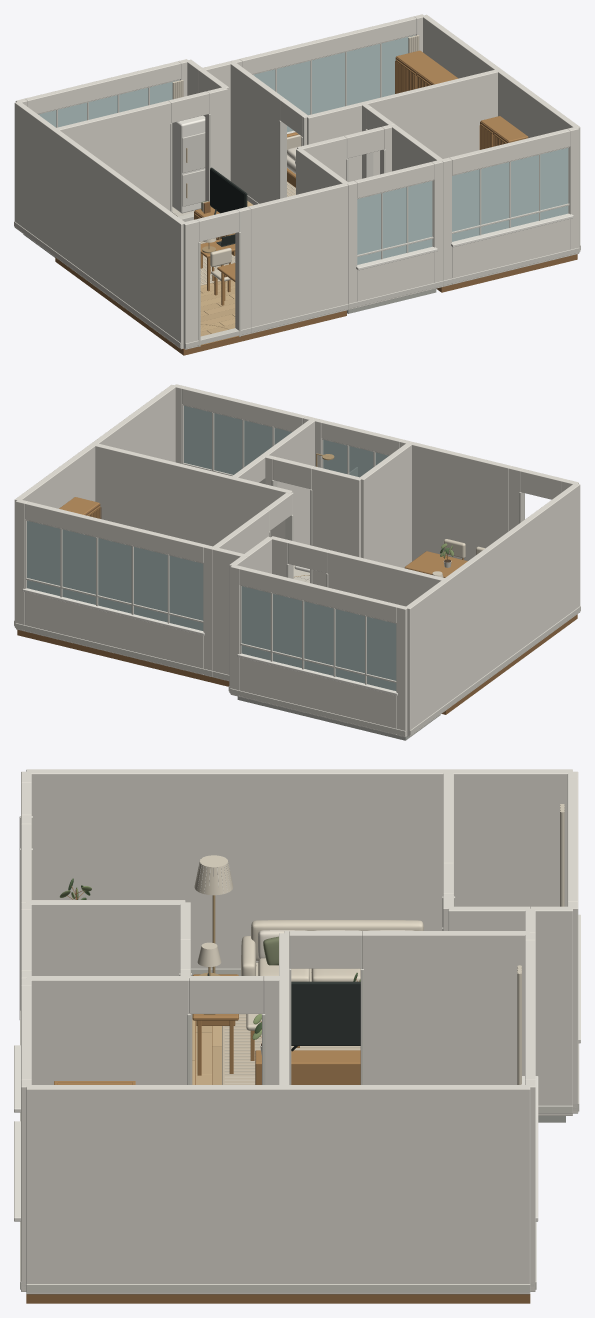
The model's file is new-home-c.glb.
3 renders of one model, top to bottom at view 1: azimuth 30°, elevation 25°; view 2: azimuth 150°, elevation 25°; view 3: azimuth 270°, elevation 25°, orthographic. The views are drawn at different scales.
Parts seen in each view (by area): view 1: Plaster wall (×28), Pale glazing (×4), Skirting board (×5), Floor underlay (×2), Door jamb (×3), Refrigerator door (×2), Carcass (×2), Refrigerator, Stone window sill (×2), Television screen, Oak door panel; view 2: Plaster wall (×29), Pale glazing (×4), Skirting board (×3), Floor underlay (×2), Stone window sill (×2), Solid oak tabletop, Window rail; view 3: Plaster wall (×20), Floor underlay (×2), Television frame, Skirting board, Carcass, Bound wool rug, Soft back, Pleated shade, Stone window sill, Seat cushion.001.
Part boxes in pixels (<box>): Plaster wall (×28): <box>14,14,580,349</box>; Pale glazing (×4): <box>38,35,568,264</box>; Skirting board (×5): <box>14,221,579,348</box>; Floor underlay (×2): <box>135,254,577,355</box>; Door jamb (×3): <box>205,114,286,336</box>; Refrigerator door (×2): <box>182,132,205,206</box>; Carcass (×2): <box>396,50,528,142</box>; Refrigerator: <box>172,115,205,213</box>; Stone window sill (×2): <box>356,213,573,270</box>; Television screen: <box>210,169,244,212</box>; Oak door panel: <box>395,59,415,93</box>; Plaster wall (×29): <box>14,384,580,737</box>; Pale glazing (×4): <box>27,406,396,690</box>; Skirting board (×3): <box>15,606,580,735</box>; Floor underlay (×2): <box>17,629,440,740</box>; Stone window sill (×2): <box>22,588,397,695</box>; Solid oak tabletop: <box>404,551,467,577</box>; Window rail: <box>26,578,203,622</box>; Plaster wall (×20): <box>21,769,578,1294</box>; Floor underlay (×2): <box>26,1294,530,1303</box>; Television frame: <box>291,981,360,1045</box>; Skirting board: <box>26,1284,530,1292</box>; Carcass: <box>255,1050,360,1084</box>; Bound wool rug: <box>222,1014,360,1084</box>; Soft back: <box>251,920,423,960</box>; Pleated shade: <box>194,855,233,895</box>; Stone window sill: <box>14,1121,20,1221</box>; Seat cushion.001: <box>311,968,360,981</box>.
Bounding box in the file's own units: 8.54 × 2.69 × 6.38.
